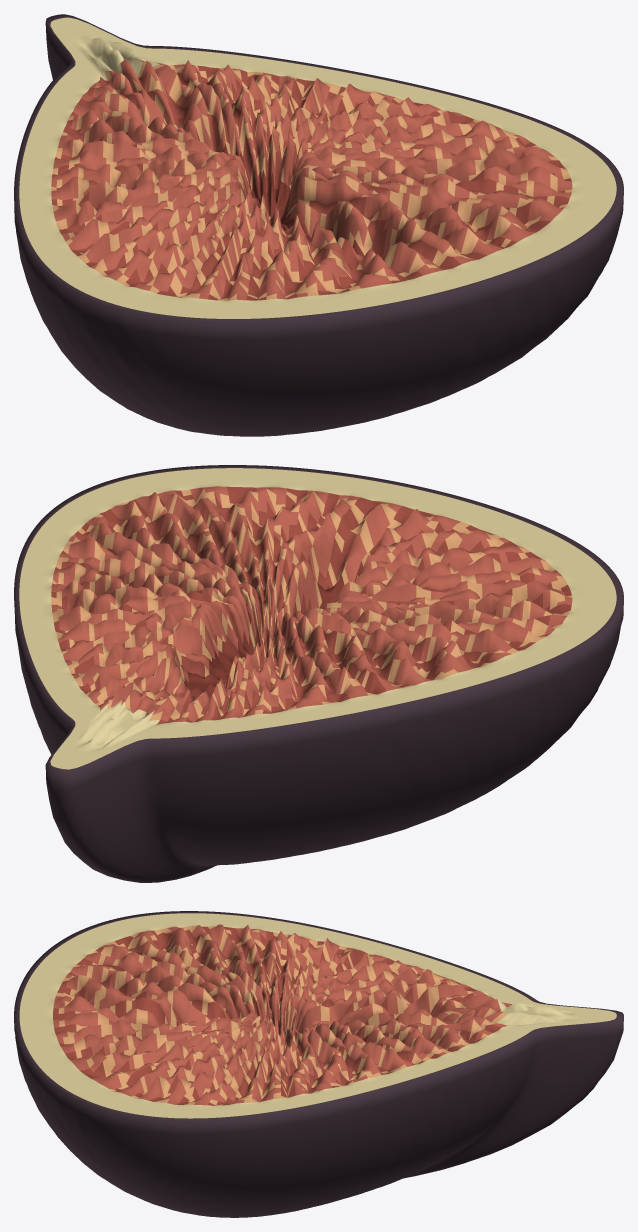
3 renders of one model, top to bottom at view 1: azimuth 30°, elevation 25°; view 2: azimuth 150°, elevation 25°; view 3: azimuth 270°, elevation 25°, orthographic. The views are drawn at different scales.
Visible parts, largest first — view 1: NEW348_FigHalf_LOD1; view 2: NEW348_FigHalf_LOD1; view 3: NEW348_FigHalf_LOD1.
Boxes of the visible parts, x1,y1,x2,y2 form: NEW348_FigHalf_LOD1: (14, 14, 623, 436); NEW348_FigHalf_LOD1: (14, 465, 623, 882); NEW348_FigHalf_LOD1: (14, 911, 623, 1217).
Size of the model in its own units: 0.0651 by 0.0272 by 0.08.
